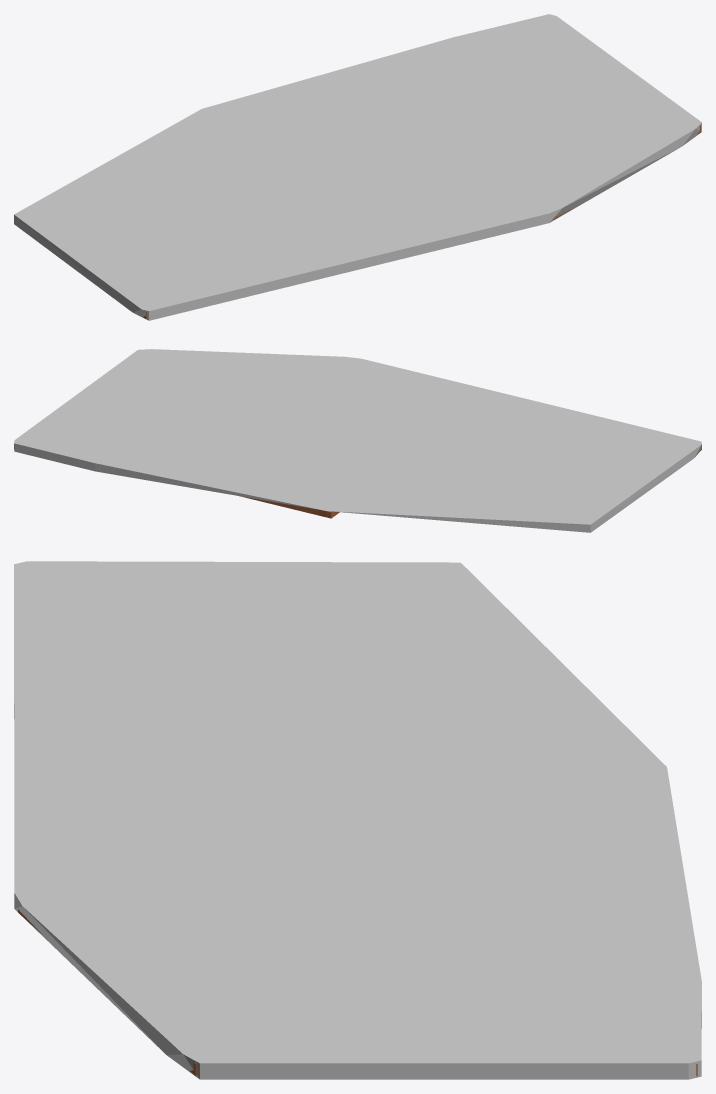
The model's file is SM_Ceiling.fbx.
3 renders of one model, top to bottom at view 1: azimuth 30°, elevation 25°; view 2: azimuth 150°, elevation 25°; view 3: azimuth 270°, elevation 25°, orthographic. The views are drawn at different scales.
Parts seen in each view (by area): view 1: SM_Ceiling_ConvexHulls; view 2: SM_Ceiling_ConvexHulls, SM_Ceiling; view 3: SM_Ceiling_ConvexHulls.
Boxes of the visible parts, box(x1,y1,x2,y2) form: SM_Ceiling_ConvexHulls: box(14, 14, 701, 320); SM_Ceiling_ConvexHulls: box(14, 349, 701, 532); SM_Ceiling: box(14, 443, 701, 518); SM_Ceiling_ConvexHulls: box(14, 561, 701, 1079).
Size of the model in its own units: 2287 by 1324 by 34.5.
Materials: 2 (1 with a texture image).
